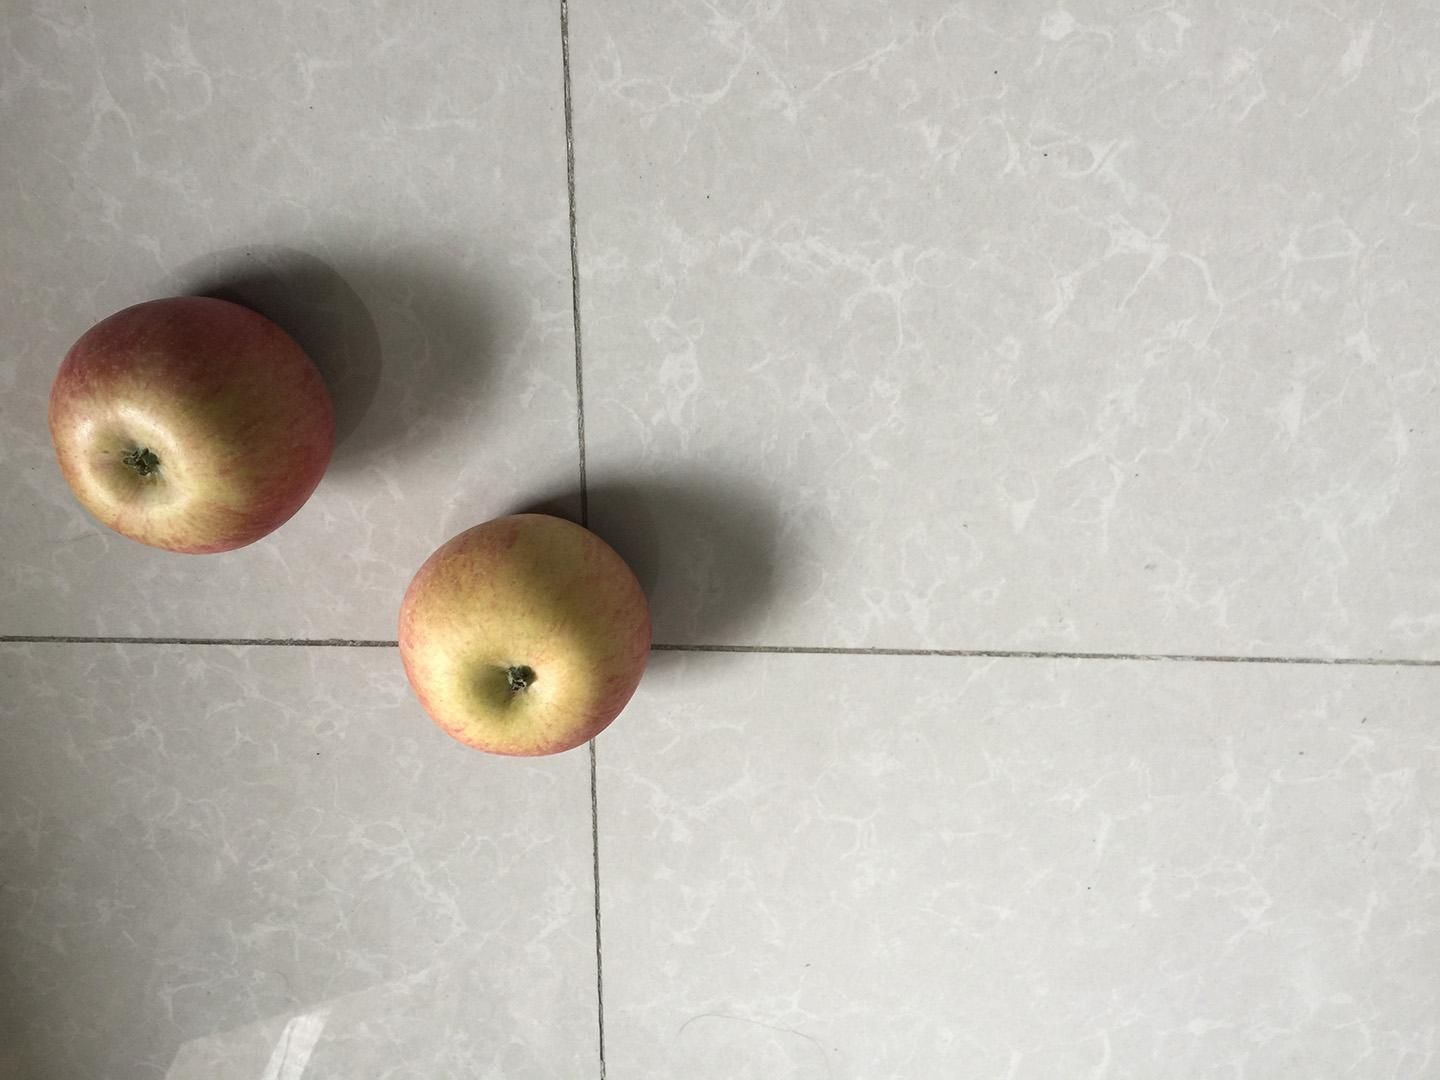apple: (44, 285, 341, 564), (388, 505, 661, 765)
